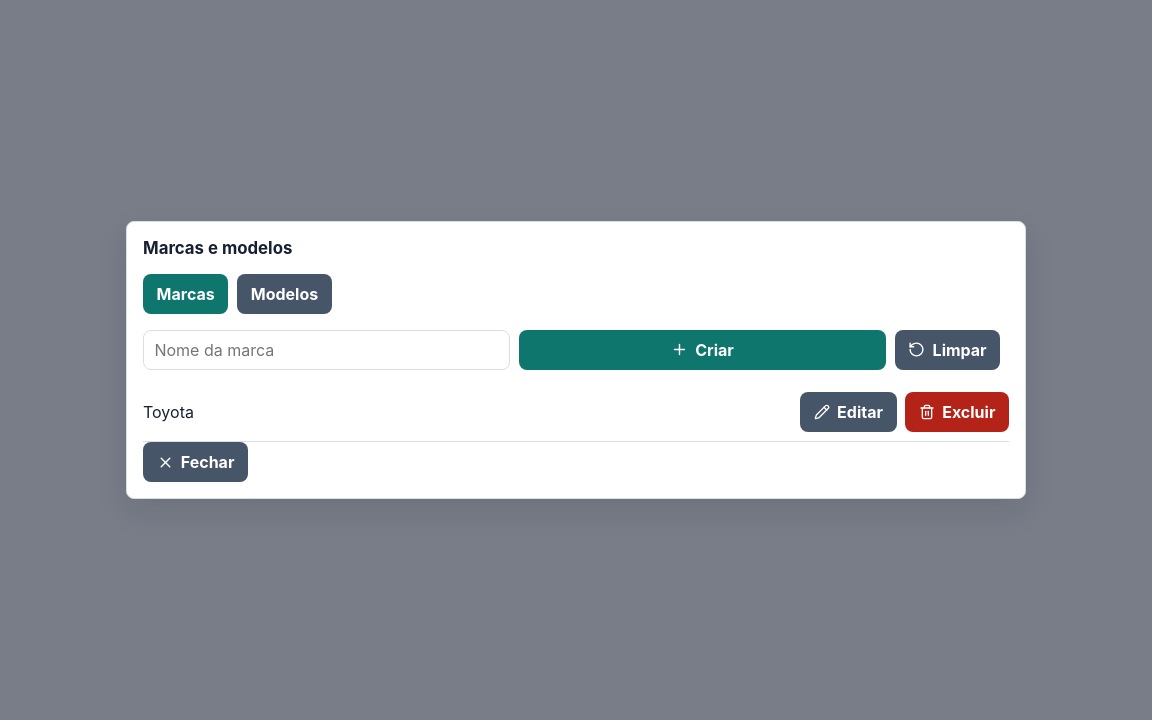
Scenario: BrandModelManagerModal › shows ProblemDetail errors returned by catalog API actions
In the field with placeholder "Nome da marca": (327, 350) 143,330 -> 510,370, type "Toyota"
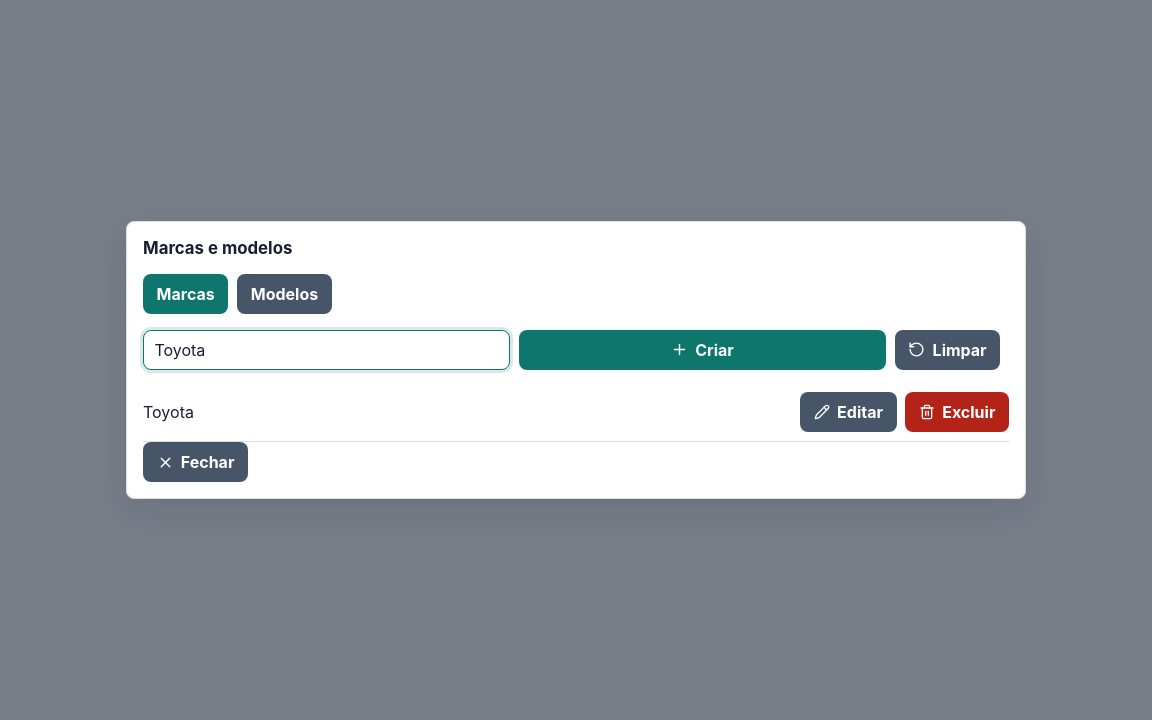
Click the button "Criar": (702, 350) 519,330 -> 886,370
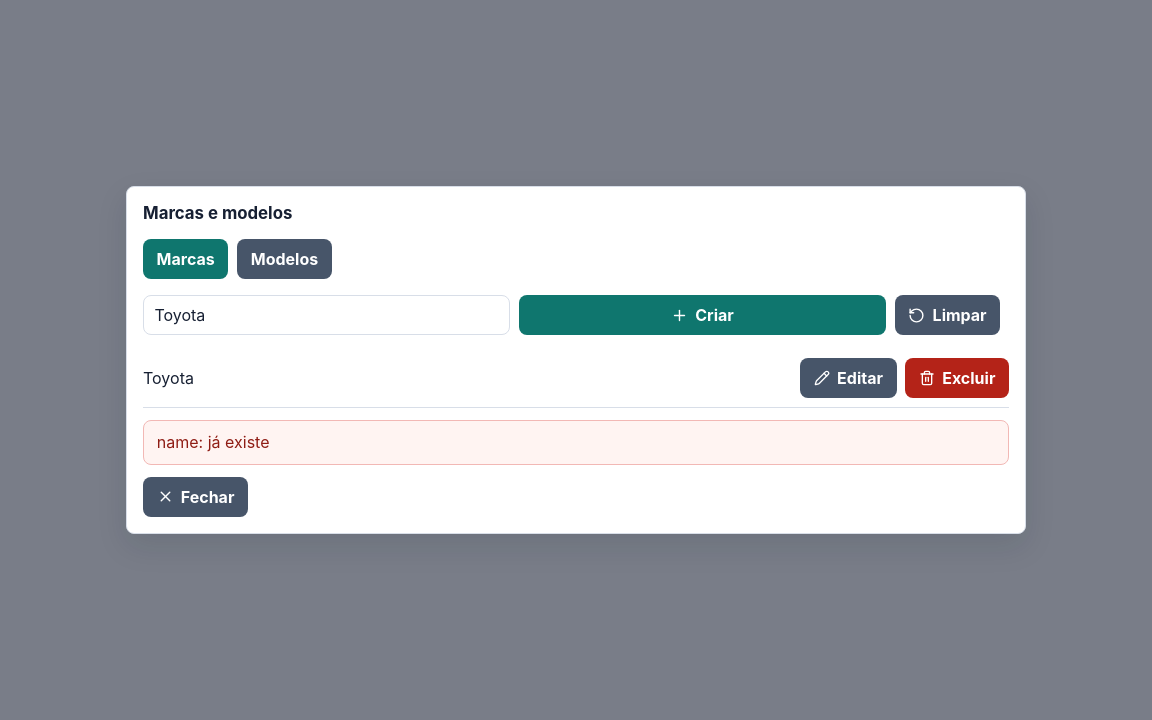
Check: the text "name: já existe" is shown, box 143,420 -> 1009,465
